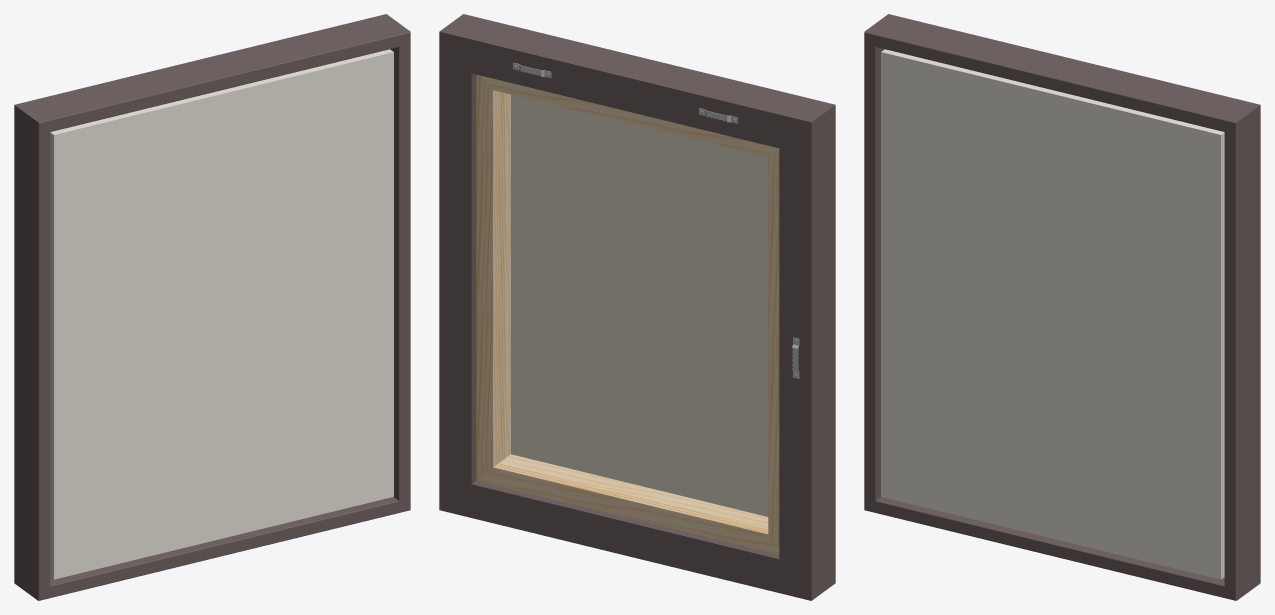
The model's file is decoded-from-delivery.glb.
The picture shows the model from 3 angles, left to right: view 1: azimuth 30°, elevation 25°; view 2: azimuth 150°, elevation 25°; view 3: azimuth 330°, elevation 25°; orthographic projection.
Visible parts, largest first — view 1: Canvas artwork front, Tray approved profile 0; view 2: Canvas linen reverse, Tray approved profile 0, Stretcher top, Sawtooth hanger 0; view 3: Canvas artwork front, Tray approved profile 0.
Part boxes in pixels (left/top/right/bottom): Canvas artwork front: left=50, top=49, right=393, bottom=579; Tray approved profile 0: left=14, top=14, right=410, bottom=600; Canvas linen reverse: left=511, top=94, right=768, bottom=516; Tray approved profile 0: left=439, top=14, right=835, bottom=600; Stretcher top: left=476, top=74, right=779, bottom=554; Sawtooth hanger 0: left=513, top=62, right=799, bottom=378; Canvas artwork front: left=881, top=49, right=1224, bottom=579; Tray approved profile 0: left=864, top=14, right=1260, bottom=600.
Size of the model in its own units: 0.438 by 0.538 by 0.0524.
Materials: 7 (2 with a texture image).
